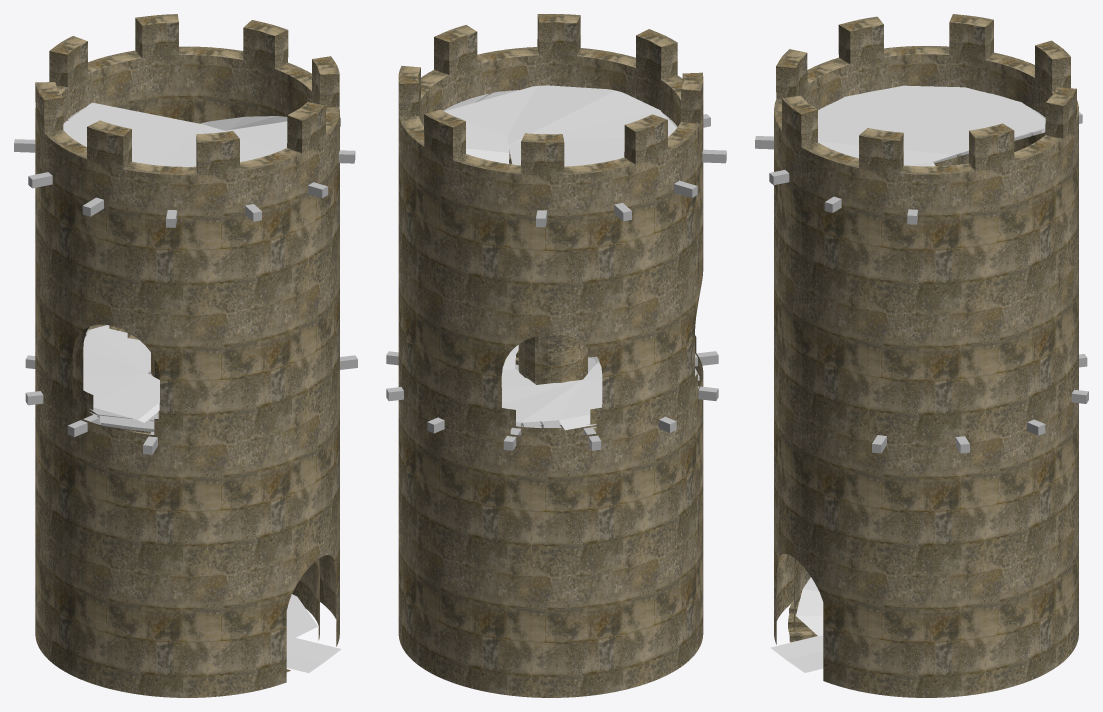
Rendered from Tower_2.fbx.
3 views of the same model, side by side, from view 1: azimuth 30°, elevation 25°; view 2: azimuth 150°, elevation 25°; view 3: azimuth 270°, elevation 25° (orthographic).
Visible parts, largest first — view 1: CastleTower.015, Plane.246; view 2: CastleTower.015, Plane.246; view 3: CastleTower.015, Plane.246, CastleTower.016.
Part boxes in pixels (box(x1,y1,x2,y2)): CastleTower.015: box(14, 14, 357, 697); Plane.246: box(63, 102, 341, 672); CastleTower.015: box(386, 14, 726, 697); Plane.246: box(444, 85, 676, 430); CastleTower.015: box(755, 14, 1088, 697); Plane.246: box(770, 85, 1045, 672); CastleTower.016: box(788, 581, 817, 642).
Bounding box in the file's own units: 633 × 1133 × 617.
